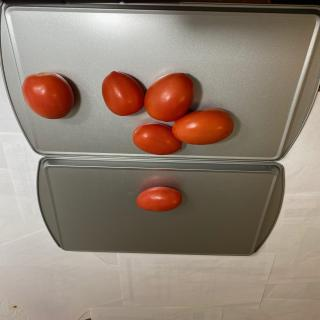Tomato: (144, 72, 195, 122), (22, 72, 74, 119), (172, 108, 234, 145), (102, 71, 144, 116), (132, 123, 182, 155), (136, 186, 182, 212)
